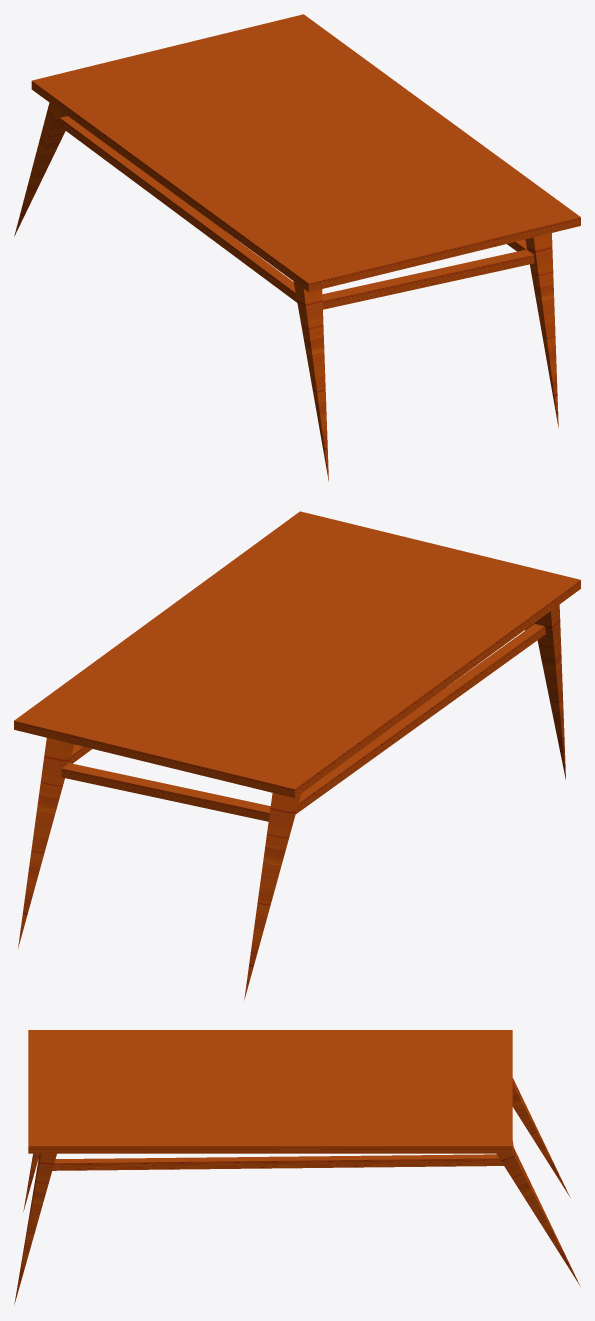
The model's file is table.fbx.
3 renders of one model, top to bottom at view 1: azimuth 30°, elevation 25°; view 2: azimuth 150°, elevation 25°; view 3: azimuth 270°, elevation 25°, orthographic. The views are drawn at different scales.
Parts seen in each view (by area): view 1: Sketchfab Model; view 2: Sketchfab Model; view 3: Sketchfab Model.
Part boxes in pixels (x1,y1,x2,y2): Sketchfab Model: (14, 14, 580, 481); Sketchfab Model: (14, 511, 580, 999); Sketchfab Model: (14, 1030, 579, 1304).
Bounding box in the file's own units: 178 × 126 × 368.
1 material, 1 textured.
